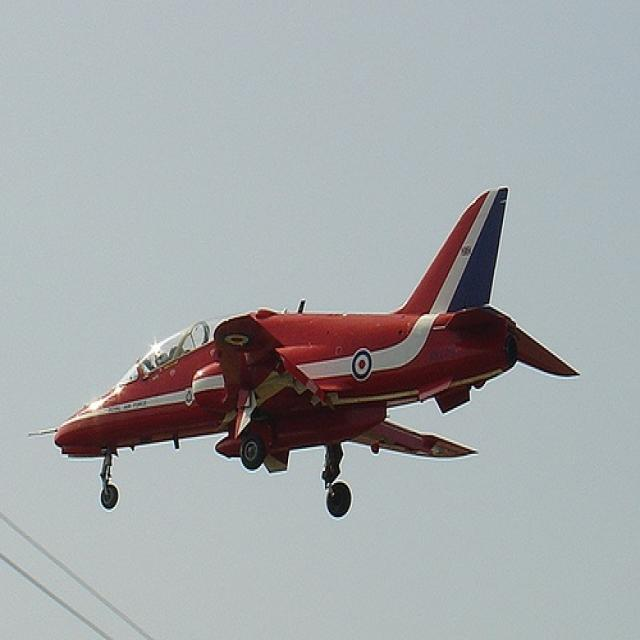aeroplane: (27, 186, 580, 519)
